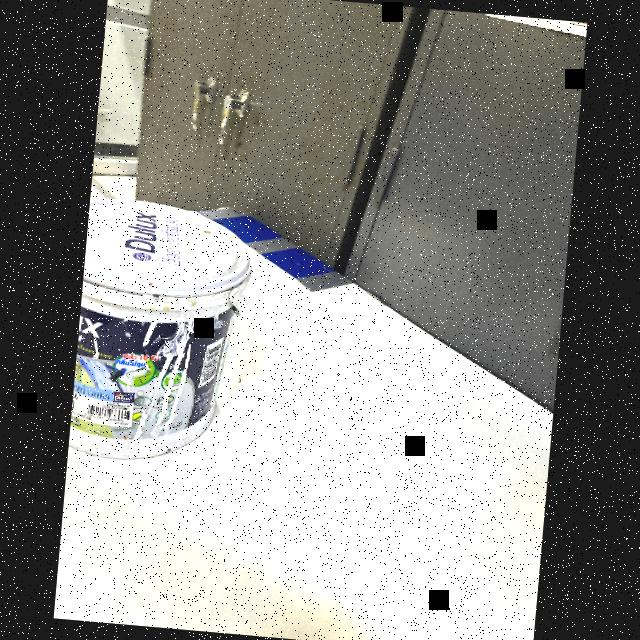paint_bucket: (67, 186, 260, 479)
